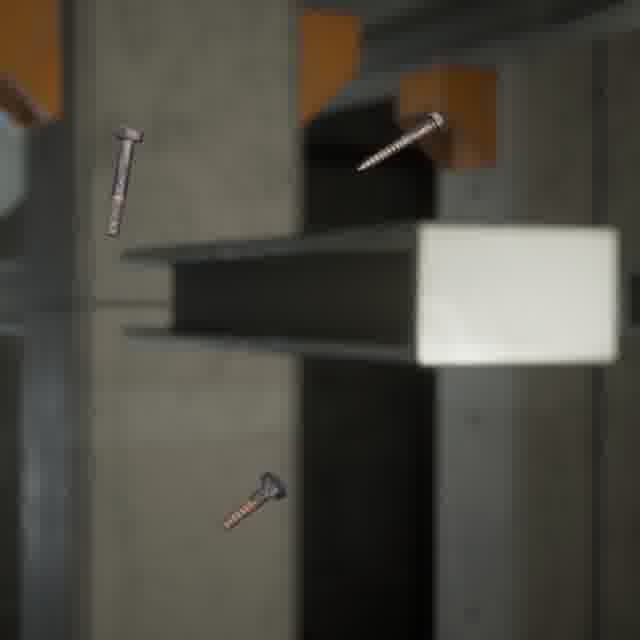bolt: (353, 106, 450, 175), (100, 122, 148, 241), (216, 467, 291, 535)
